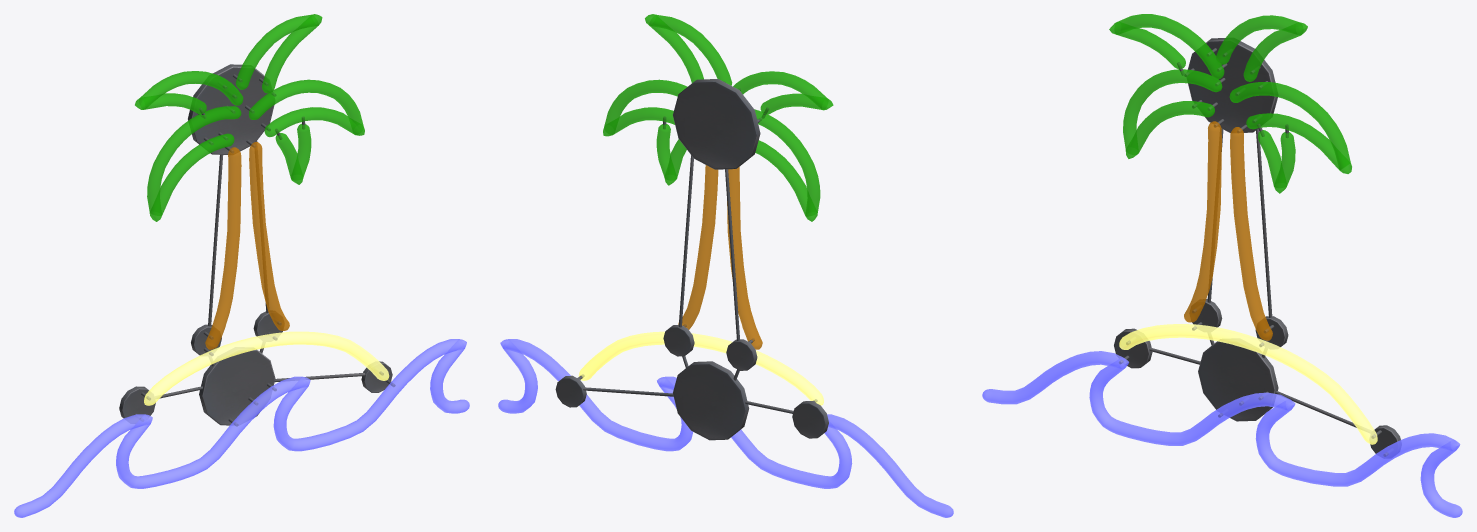
File: neon_palm.glb
3 renders of one model, left to right at view 1: azimuth 30°, elevation 25°; view 2: azimuth 150°, elevation 25°; view 3: azimuth 330°, elevation 25°, orthographic. The views are drawn at different scales.
Parts seen in each view (by area): view 1: Object_6, Object_2, Object_3, Object_5, Object_4; view 2: Object_2, Object_6, Object_3, Object_5, Object_4; view 3: Object_6, Object_2, Object_3, Object_5, Object_4.
Boxes of the visible parts, left/top/right/bottom form: Object_6: left=135, top=14, right=364, bottom=221; Object_2: left=119, top=64, right=395, bottom=426; Object_3: left=14, top=339, right=469, bottom=517; Object_5: left=205, top=142, right=289, bottom=349; Object_4: left=144, top=331, right=389, bottom=405; Object_2: left=555, top=79, right=828, bottom=440; Object_6: left=603, top=14, right=833, bottom=221; Object_3: left=498, top=339, right=953, bottom=517; Object_5: left=678, top=165, right=762, bottom=349; Object_4: left=578, top=331, right=823, bottom=405; Object_6: left=1109, top=14, right=1351, bottom=193; Object_2: left=1114, top=38, right=1400, bottom=456; Object_3: left=982, top=351, right=1462, bottom=517; Object_5: left=1184, top=121, right=1272, bottom=340; Object_4: left=1119, top=324, right=1377, bottom=444.
Size of the model in its own units: 1.2 by 1.1 by 0.0676.
5 materials, 3 textured.
